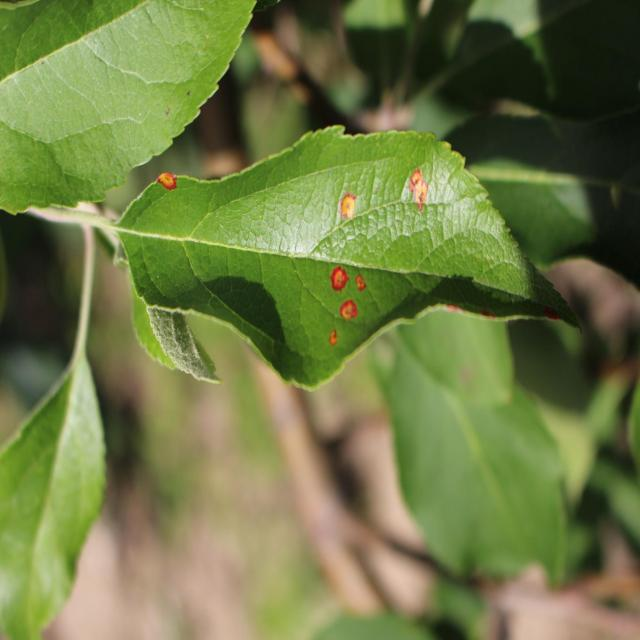Rust: (146, 157, 183, 200), (407, 159, 428, 224), (323, 255, 355, 296), (333, 292, 364, 332), (334, 182, 362, 226), (354, 262, 372, 296), (322, 330, 347, 351)
